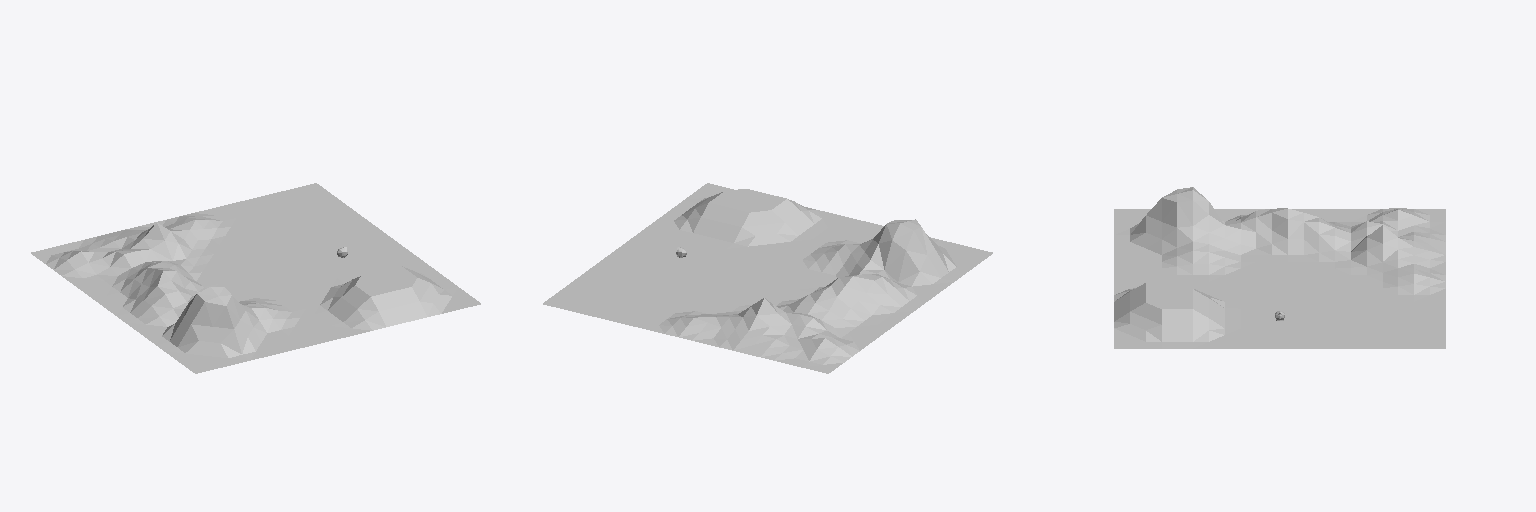
The picture shows the model from 3 angles: view 1: azimuth 30°, elevation 25°; view 2: azimuth 150°, elevation 25°; view 3: azimuth 270°, elevation 25°; orthographic projection.
Parts seen in each view (by area): view 1: plane; view 2: plane; view 3: plane.
Boxes of the visible parts, <box> form: plane: <box>31,183,480,373</box>; plane: <box>543,183,992,373</box>; plane: <box>1114,187,1445,348</box>.
Size of the model in its own units: 60 by 9 by 60.